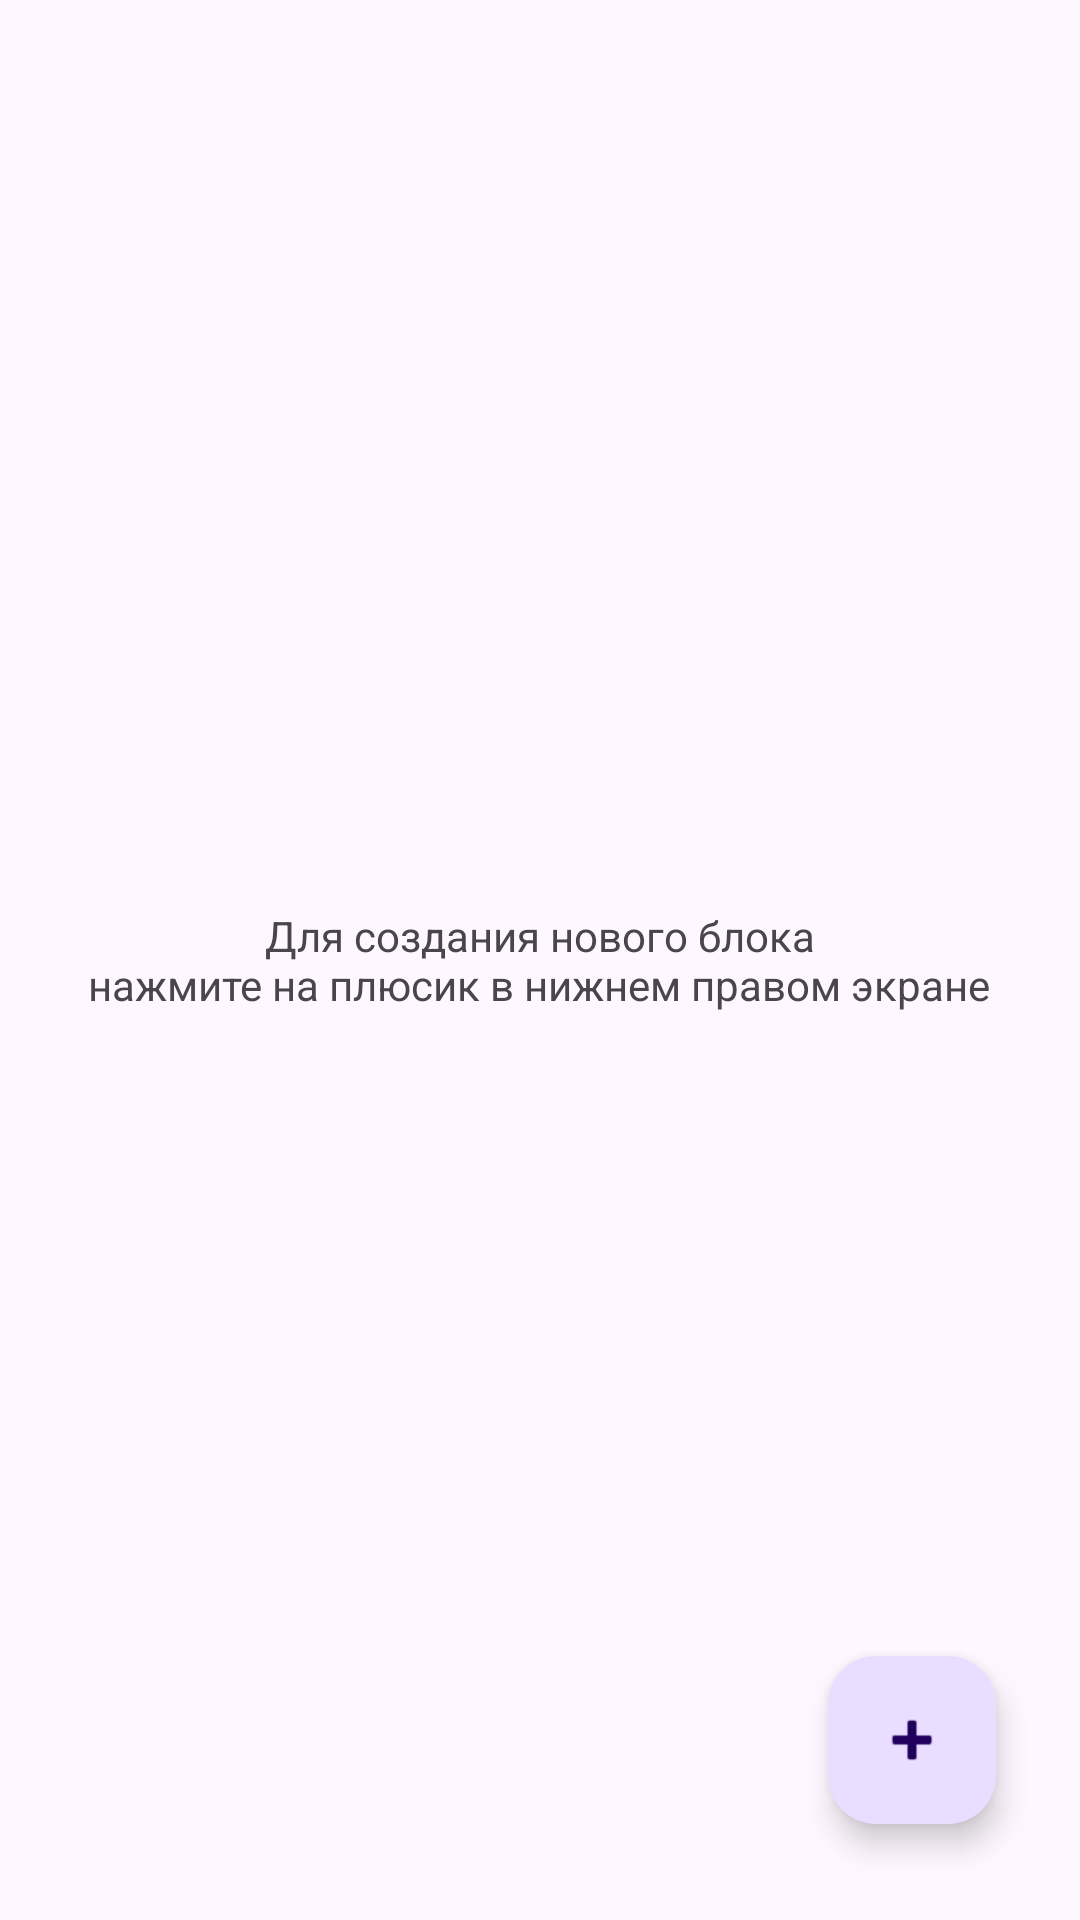

Screen size 1080 × 1920. Icon name, then its box in pixels as rect(x1, y1, x2, y2):
add: rect(828, 1656, 996, 1824)
